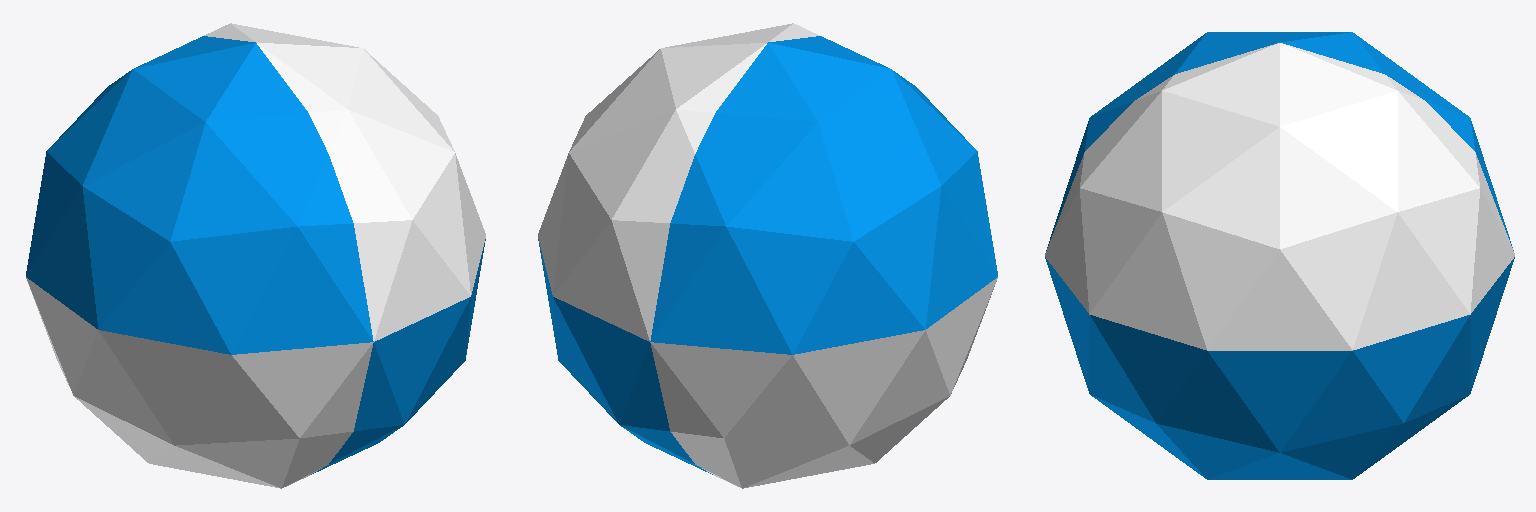
3 views of the same model, side by side, from view 1: azimuth 30°, elevation 25°; view 2: azimuth 150°, elevation 25°; view 3: azimuth 270°, elevation 25° (orthographic).
Visible parts, largest first — view 1: Icosphere; view 2: Icosphere; view 3: Icosphere.
Boxes of the visible parts, <box> form: Icosphere: <box>26,23,485,488</box>; Icosphere: <box>538,23,997,488</box>; Icosphere: <box>1045,32,1514,479</box>.
Size of the model in its own units: 100 by 105 by 105.
1 materials, 1 textured.